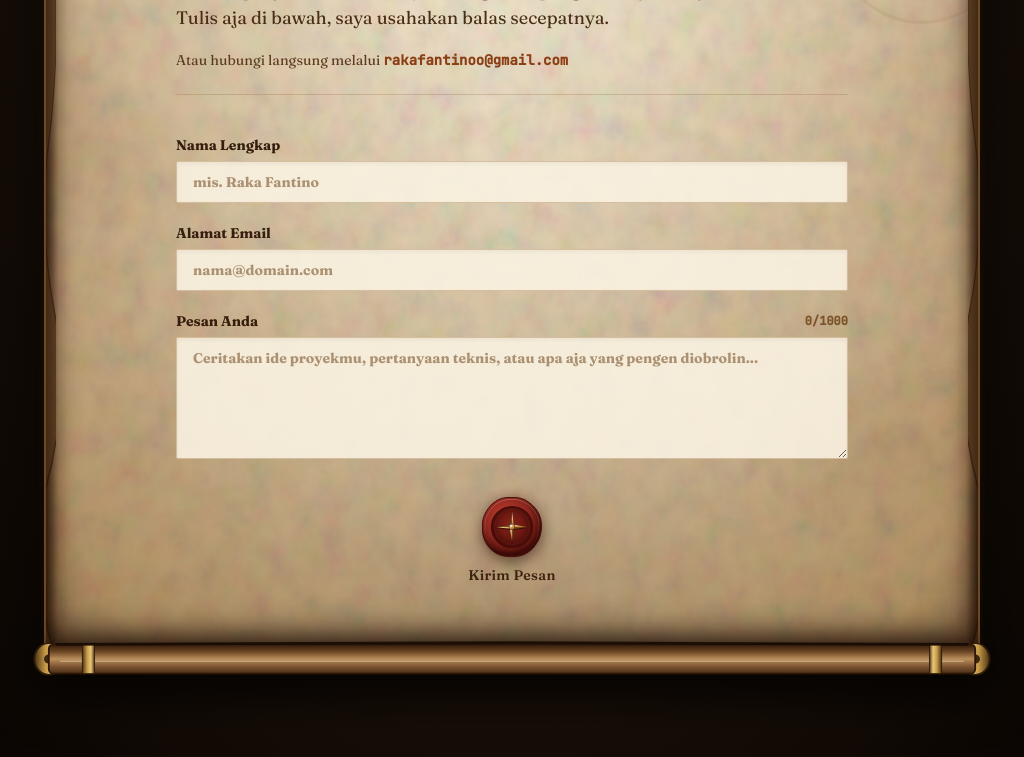
Contact Page - Warm Editorial Dispatch Form › updates character counter as user types and blocks submit if message exceeds 1000 chars
(page scrolled)
Replace the text in the text box labelled "Pesan Anda 0/1000" with "Hello dispatch" at (512, 398), box [176, 337, 848, 459]
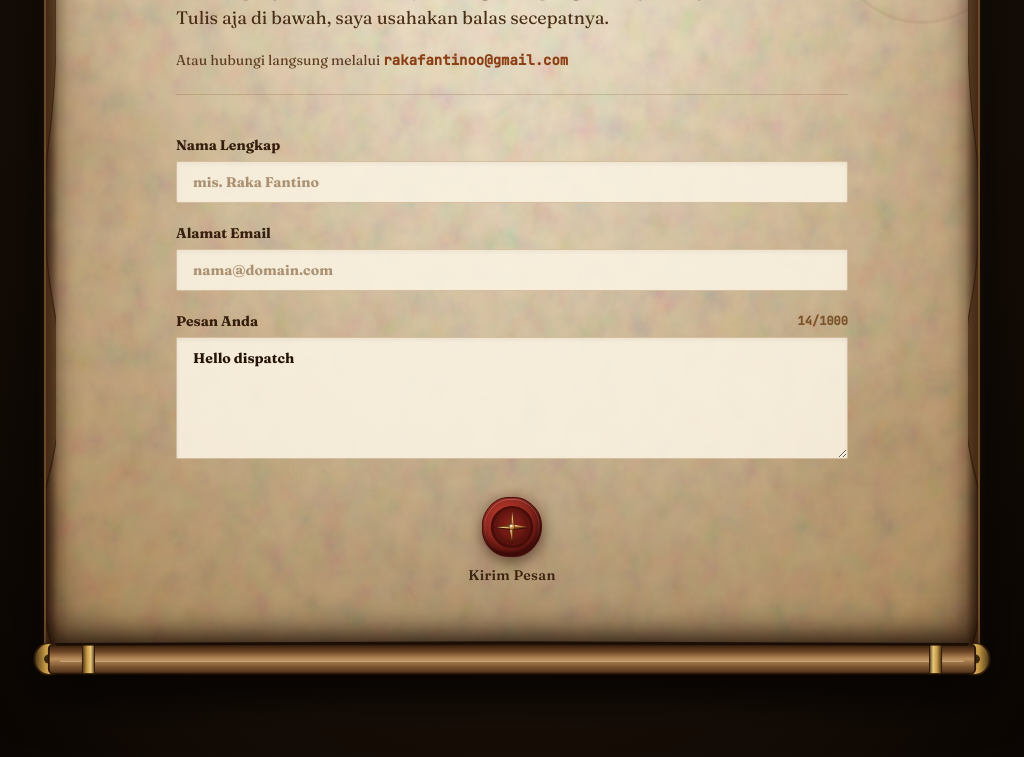
Now the text with test id "char-counter" reads "14/1000", box [798, 313, 848, 329]
